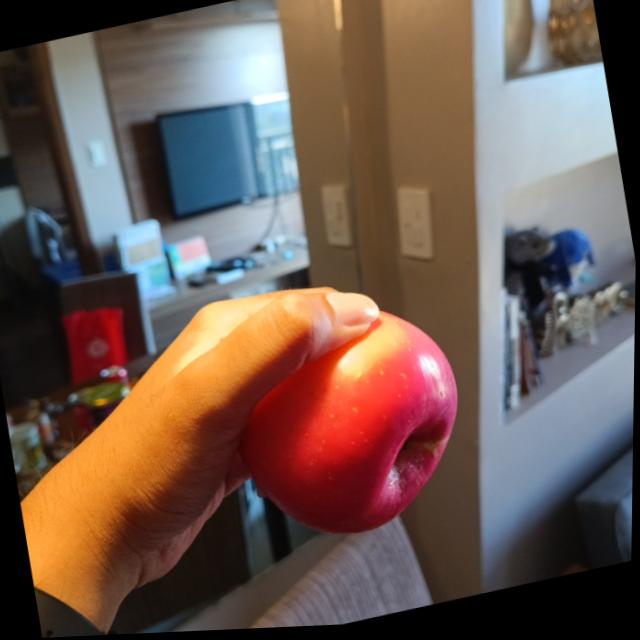apple: (227, 301, 478, 559)
